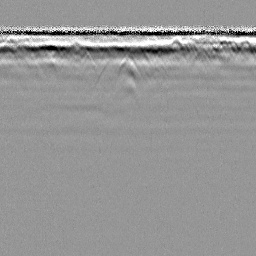cavity: (115, 55, 142, 78)
